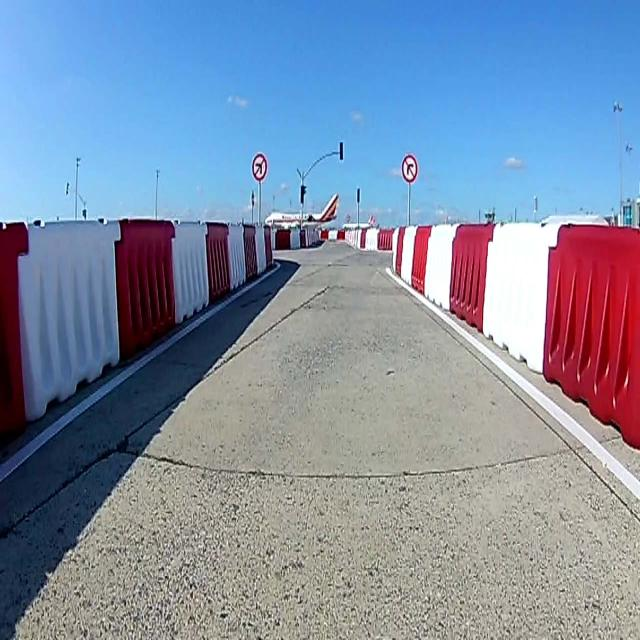sagadonulmez: (401, 154, 418, 183)
soladonulmez: (251, 150, 267, 180)
